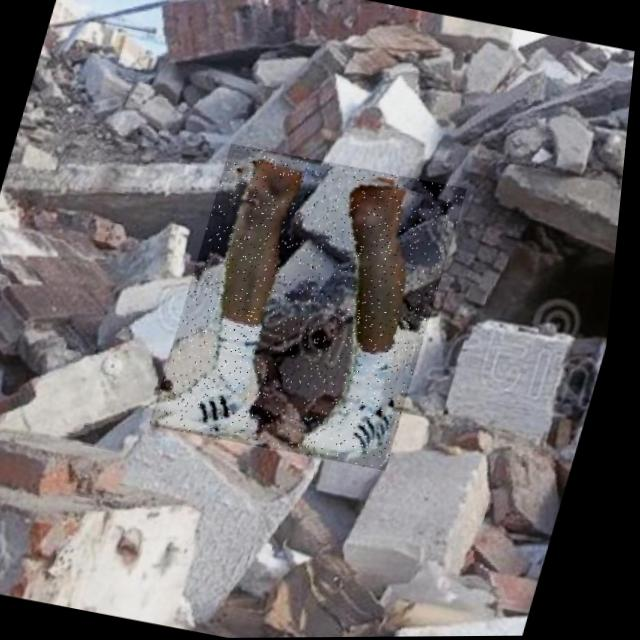Person in Rubble: (155, 143, 474, 472)
